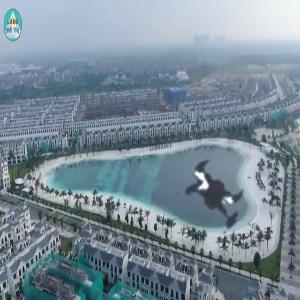drone: (144, 125, 286, 267)
